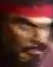ryu: (1, 0, 52, 66)
